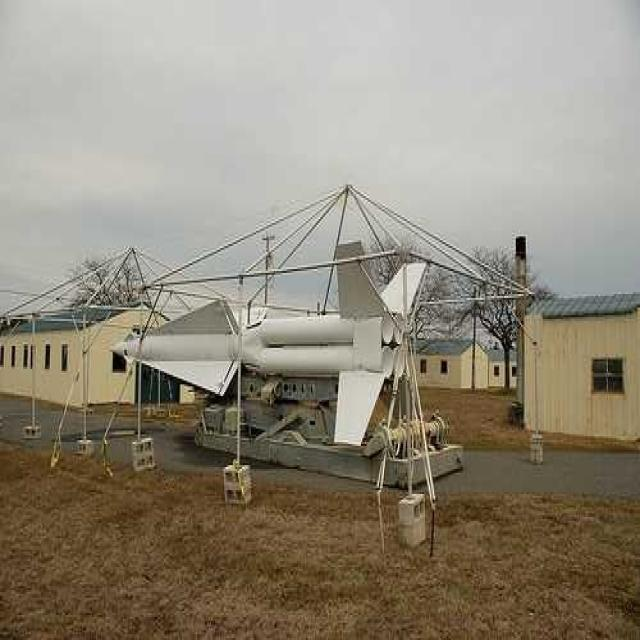missile: (107, 243, 426, 450)
